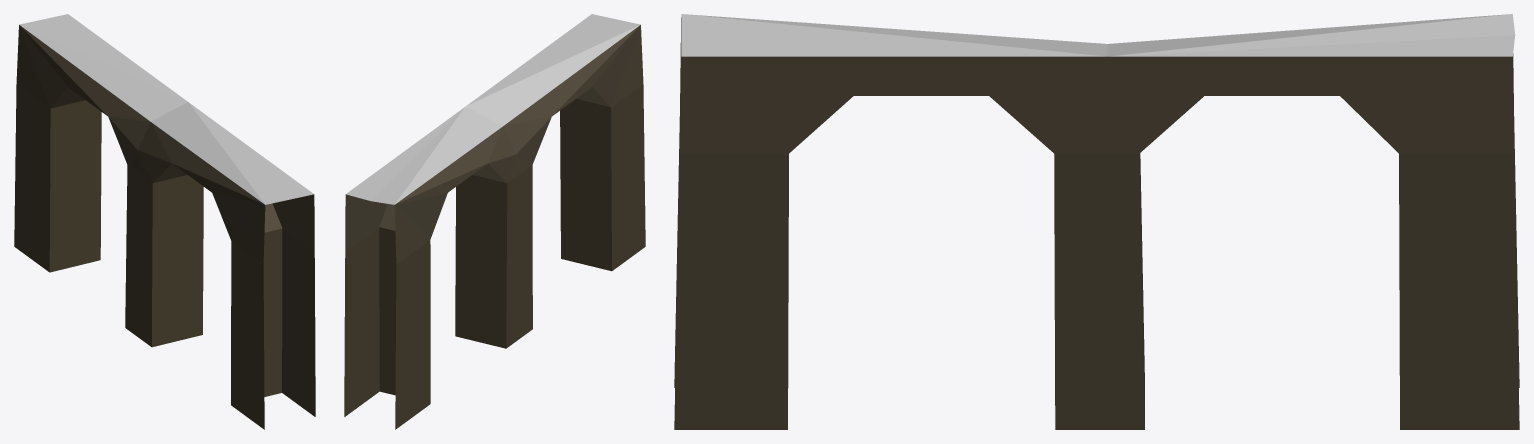
File: TPL_BRIDGE_V2.OBJ
3 renders of one model, left to right at view 1: azimuth 30°, elevation 25°; view 2: azimuth 150°, elevation 25°; view 3: azimuth 270°, elevation 25°, orthographic. The views are drawn at different scales.
Visible parts, largest first — view 1: TPL_BRIDGE_V2; view 2: TPL_BRIDGE_V2; view 3: TPL_BRIDGE_V2.
Part boxes in pixels (<box>): TPL_BRIDGE_V2: <box>14,14,315,429</box>; TPL_BRIDGE_V2: <box>344,14,645,429</box>; TPL_BRIDGE_V2: <box>674,14,1519,429</box>.
Size of the model in its own units: 1.11 by 4.57 by 9.31.
